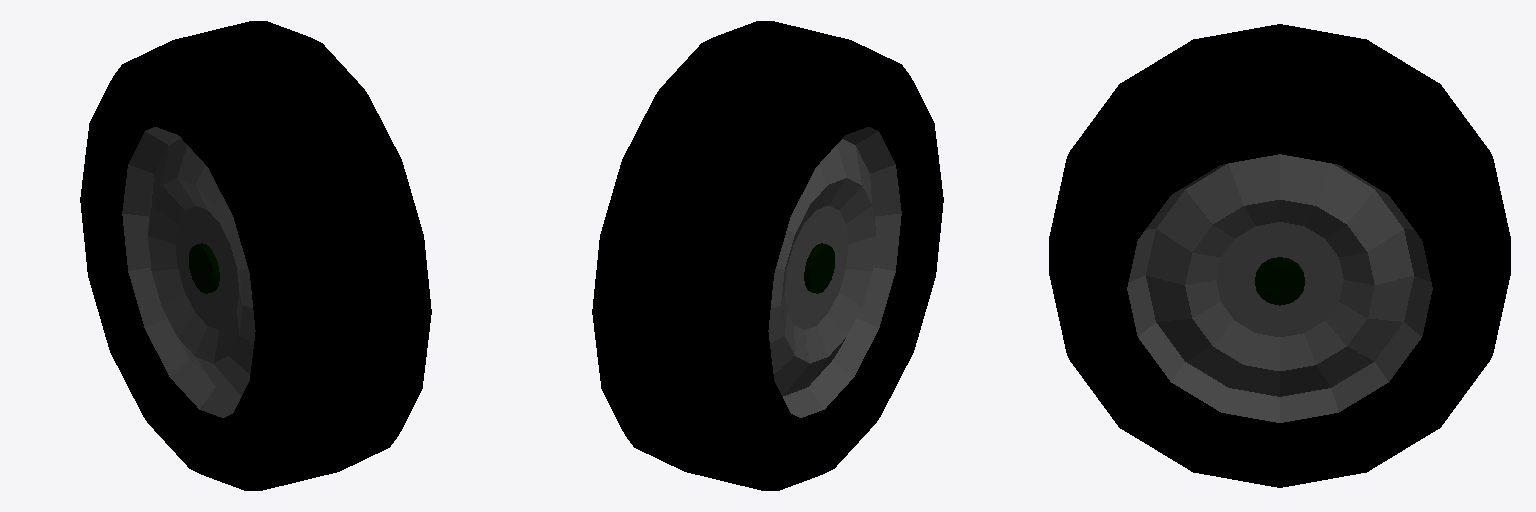
Rendered from Beta_Juliet_wheel.obj.
3 views of the same model, side by side, from view 1: azimuth 30°, elevation 25°; view 2: azimuth 150°, elevation 25°; view 3: azimuth 270°, elevation 25° (orthographic).
Parts seen in each view (by area): view 1: Wheel_Cylinder.001; view 2: Wheel_Cylinder.001; view 3: Wheel_Cylinder.001.
Part boxes in pixels (x1,y1,x2,y2): Wheel_Cylinder.001: (80,21,431,490); Wheel_Cylinder.001: (592,21,943,490); Wheel_Cylinder.001: (1049,24,1510,487).
Bounding box in the file's own units: 0.2324 × 0.6 × 0.6.